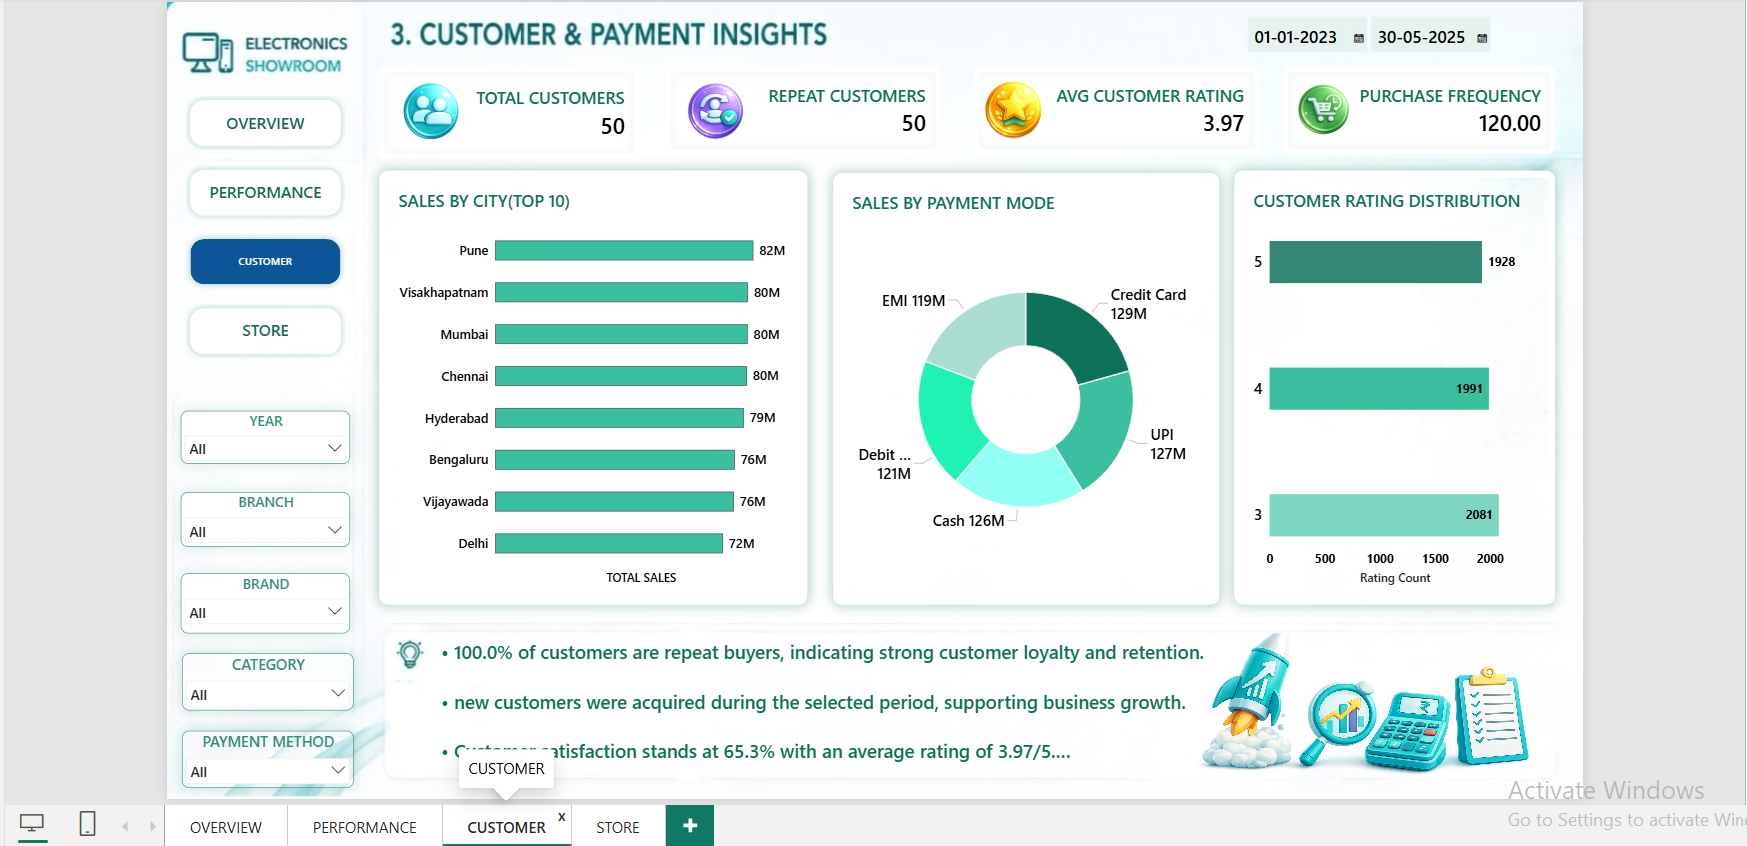

What the dashboard file says about the page in this screenshot:
{"tool":"powerbi","page":{"name":"CUSTOMER","canvas":[1920,1080],"ordinal":2},"visuals":[{"type":"cardVisual","fields":{"Data":["Date_Table.Total Customers"]},"box":[288,88,352,124],"z":0},{"type":"cardVisual","fields":{"Data":["Date_Table.Repeat Customers"]},"box":[676.8,88.7,372.8,117.6],"z":1000},{"type":"cardVisual","fields":{"Data":["Date_Table.Average Rating"]},"box":[1094.8,88.7,385.5,117.6],"z":2000},{"type":"cardVisual","fields":{"Data":["Date_Table.Purchase Frequency"]},"box":[1512.9,88.7,369.2,117.6],"z":3000},{"type":"clusteredBarChart","title":"SALES BY CITY(TOP 10)","fields":{"Category":["electronic.City"],"Y":["electronic.Total Sales"]},"box":[288,228,580,588],"z":4000},{"type":"donutChart","title":"SALES BY PAYMENT MODE","fields":{"Category":["electronic.Payment_Mode"],"Y":["electronic.Total Sales"]},"box":[903,231.6,523,584.5],"z":5000},{"type":"clusteredBarChart","title":"CUSTOMER RATING DISTRIBUTION","fields":{"Category":["electronic.Customer_Rating"],"Y":["Date_Table.Rating Count"]},"box":[1448,228,434,588],"z":6000},{"type":"slicer","title":"YEAR","fields":{"Values":["Date_Table.Year"]},"box":[18.1,553.8,229.8,72.4],"z":7000},{"type":"slicer","title":"BRANCH","fields":{"Values":["electronic.Store_Branch"]},"box":[18.1,664.1,229.8,74.2],"z":8000},{"type":"slicer","title":"BRAND","fields":{"Values":["electronic.Brand"]},"box":[18.1,774.5,229.8,81.4],"z":9000},{"type":"cardVisual","fields":{"Data":["electronic.Customer Insights"]},"box":[358,816,1090,264],"z":10000},{"type":"image","box":[1371.7,856,510.3,208.1],"z":11000},{"type":"image","box":[287.7,103.2,137.5,88.7],"z":12000},{"type":"image","box":[693.1,103.2,99.5,92.3],"z":13000},{"type":"image","box":[1094.8,103.2,105,88.7],"z":14000},{"type":"image","box":[1527.4,103.2,79.6,88.7],"z":15000},{"type":"slicer","title":"PAYMENT METHOD","fields":{"Values":["electronic.Payment_Mode"]},"box":[20.3,987.9,232.7,77.6],"z":16000},{"type":"slicer","title":"CATEGORY","fields":{"Values":["electronic.Product_Category"]},"box":[20.3,882.6,232.7,77.6],"z":17000},{"type":"pageNavigator","box":[25.9,127.4,216,358.2],"z":17001},{"type":"slicer","fields":{"Values":["Date_Table.Date"]},"box":[1458,16,388,52],"z":17002}]}

Visuals, with their boxes on the page's 1920x1080 design canvas (x1, y1, x2, y2). These are canvas units, not pixel positions in the 1747x846 screenshot, which may show the page scaled, cropped or inside an application window:
cardVisual - Date_Table.Total Customers: [left=288, top=88, right=640, bottom=212]
cardVisual - Date_Table.Repeat Customers: [left=677, top=89, right=1050, bottom=206]
cardVisual - Date_Table.Average Rating: [left=1095, top=89, right=1480, bottom=206]
cardVisual - Date_Table.Purchase Frequency: [left=1513, top=89, right=1882, bottom=206]
"SALES BY CITY(TOP 10)" clusteredBarChart: [left=288, top=228, right=868, bottom=816]
"SALES BY PAYMENT MODE" donutChart: [left=903, top=232, right=1426, bottom=816]
"CUSTOMER RATING DISTRIBUTION" clusteredBarChart: [left=1448, top=228, right=1882, bottom=816]
"YEAR" slicer: [left=18, top=554, right=248, bottom=626]
"BRANCH" slicer: [left=18, top=664, right=248, bottom=738]
"BRAND" slicer: [left=18, top=774, right=248, bottom=856]
cardVisual - electronic.Customer Insights: [left=358, top=816, right=1448, bottom=1080]
image: [left=1372, top=856, right=1882, bottom=1064]
image: [left=288, top=103, right=425, bottom=192]
image: [left=693, top=103, right=793, bottom=196]
image: [left=1095, top=103, right=1200, bottom=192]
image: [left=1527, top=103, right=1607, bottom=192]
"PAYMENT METHOD" slicer: [left=20, top=988, right=253, bottom=1066]
"CATEGORY" slicer: [left=20, top=883, right=253, bottom=960]
pageNavigator: [left=26, top=127, right=242, bottom=486]
slicer - Date_Table.Date: [left=1458, top=16, right=1846, bottom=68]
